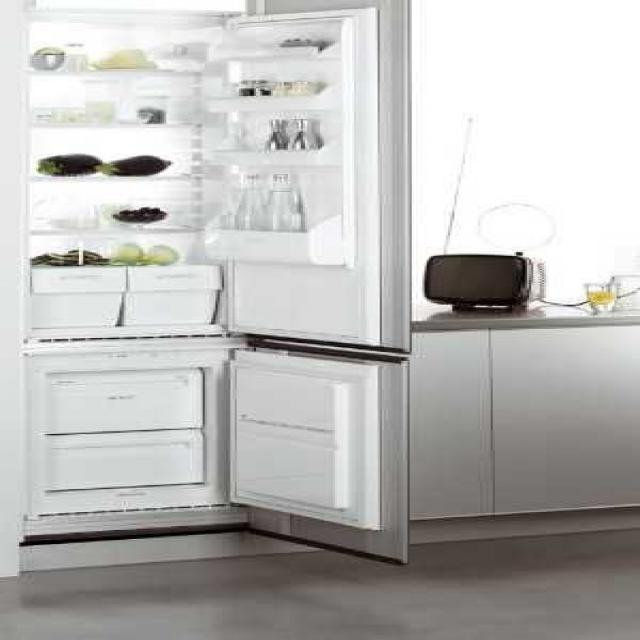refrigerator: (0, 8, 395, 548)
